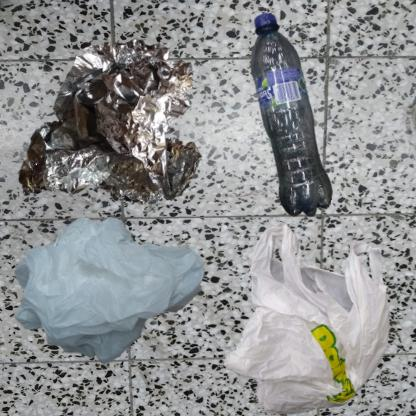aluminio: (10, 10, 255, 272)
bolsa: (213, 213, 416, 416), (10, 213, 209, 368)
botella: (213, 10, 384, 246)
